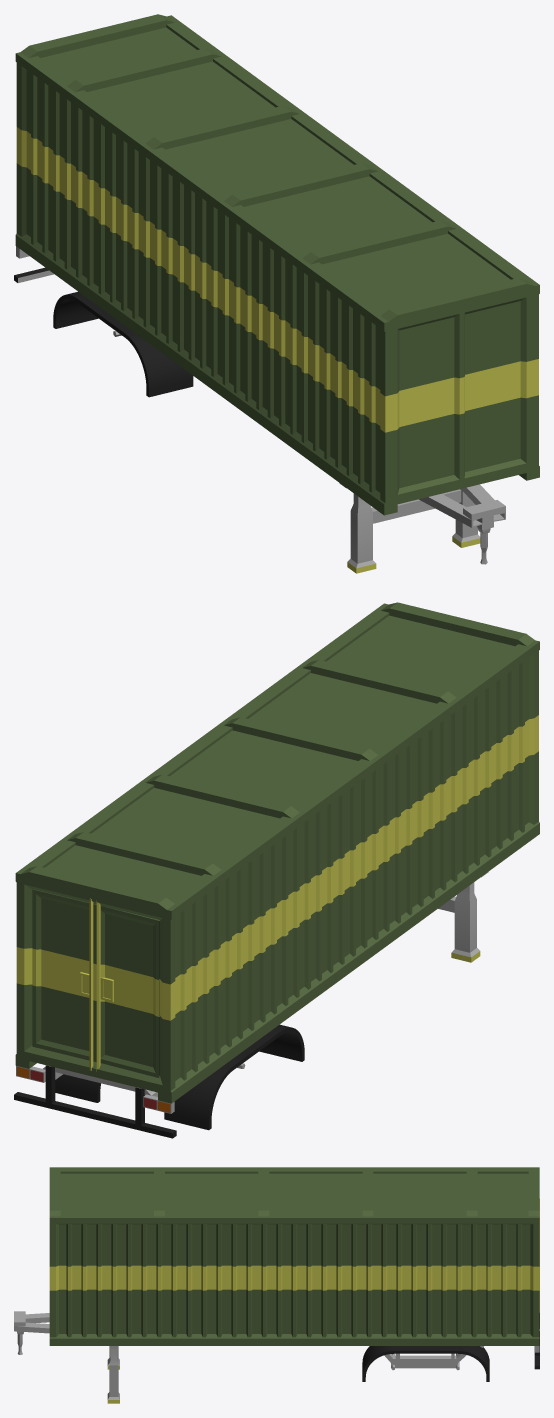
File: Trailer.FBX
3 views of the same model, one above another, from view 1: azimuth 30°, elevation 25°; view 2: azimuth 150°, elevation 25°; view 3: azimuth 270°, elevation 25° (orthographic). The views are drawn at different scales.
Parts seen in each view (by area): view 1: Trailer, Legs; view 2: Trailer, Door_L, Door_R, Legs; view 3: Trailer, Legs.
Part boxes in pixels (box(x1,y1,x2,y2)): Trailer: box(14, 14, 539, 564); Legs: box(347, 489, 480, 573); Trailer: box(14, 602, 539, 1138); Door_L: box(32, 889, 96, 1070); Door_R: box(96, 900, 160, 1078); Legs: box(438, 882, 480, 962); Trailer: box(14, 1167, 539, 1381); Legs: box(107, 1348, 119, 1403).
Bounding box in the file's own units: 0.9387 × 1.64 × 4.05.
